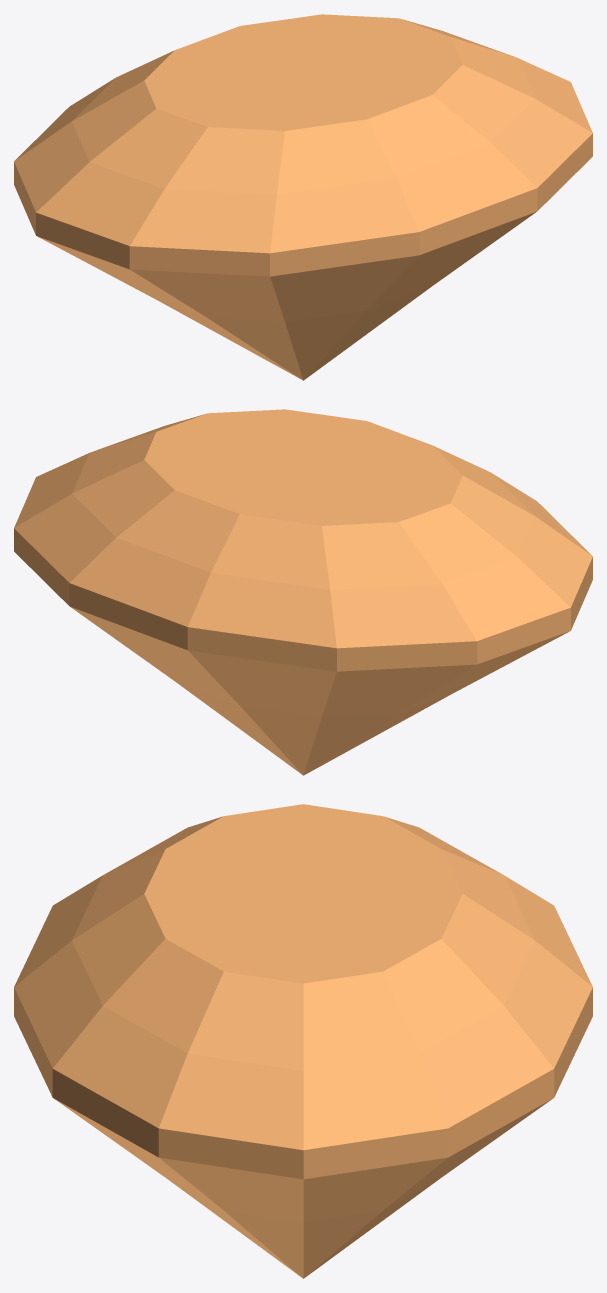
File: imperial-topaz-glass.glb
The picture shows the model from 3 angles, top to bottom: view 1: azimuth 30°, elevation 25°; view 2: azimuth 150°, elevation 25°; view 3: azimuth 270°, elevation 25°; orthographic projection. The views are drawn at different scales.
Visible parts, largest first — view 1: Imperial topaz; view 2: Imperial topaz; view 3: Imperial topaz.
Part boxes in pixels (bbox=[...]): Imperial topaz: bbox=[14, 14, 592, 380]; Imperial topaz: bbox=[14, 409, 592, 775]; Imperial topaz: bbox=[14, 804, 592, 1278].
Size of the model in its own units: 2.4 by 1.32 by 1.8.
